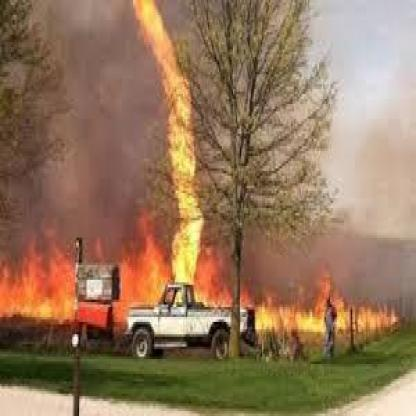fire: (119, 0, 226, 305), (240, 282, 397, 330), (2, 258, 71, 322)
other: (72, 294, 112, 330)
